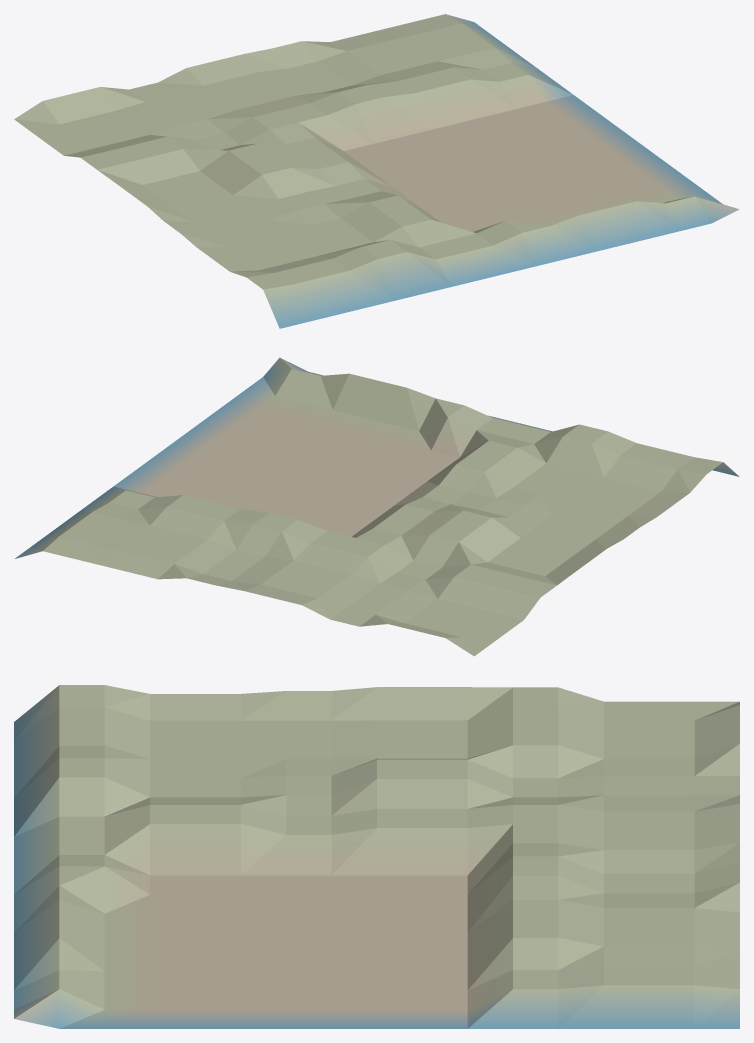
The picture shows the model from 3 angles, top to bottom: view 1: azimuth 30°, elevation 25°; view 2: azimuth 150°, elevation 25°; view 3: azimuth 270°, elevation 25°; orthographic projection. The views are drawn at different scales.
Bounding box in the file's own units: 32 × 1.97 × 32.
